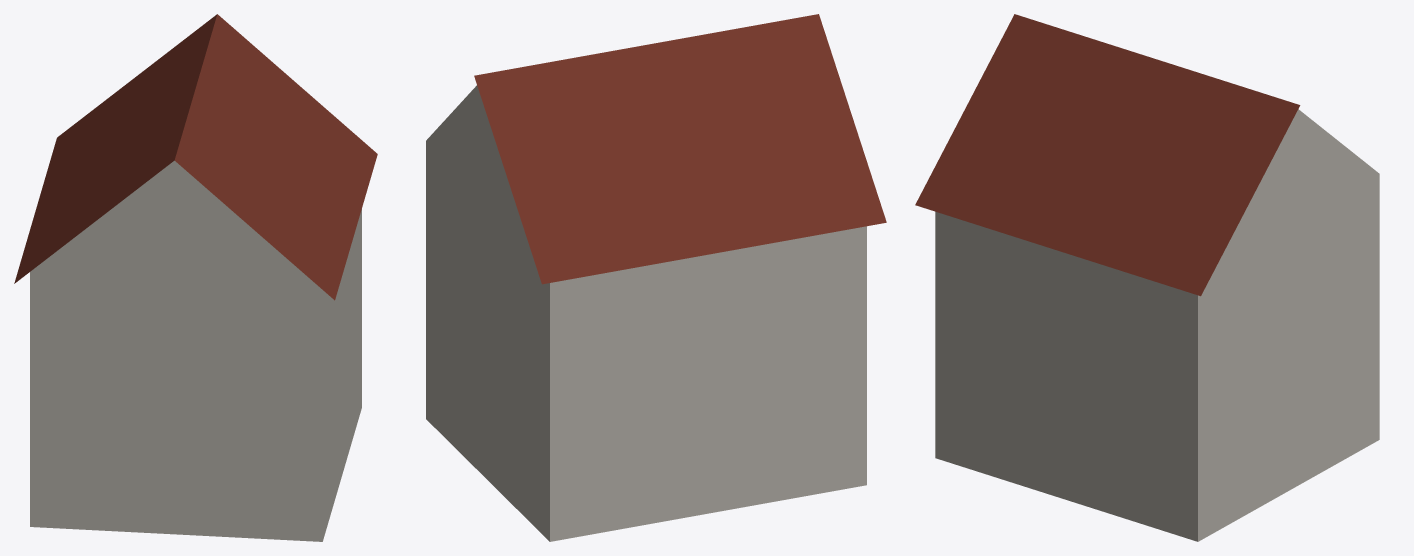
3 renders of one model, left to right at view 1: azimuth 30°, elevation 25°; view 2: azimuth 150°, elevation 25°; view 3: azimuth 270°, elevation 25°, orthographic. The views are drawn at different scales.
Visible parts, largest first — view 1: buildings; view 2: buildings; view 3: buildings.
Boxes of the visible parts, x1,y1,x2,y2 form: buildings: (14,14,377,541); buildings: (426,14,886,541); buildings: (915,14,1379,541).
Bounding box in the file's own units: 9.99 × 8.93 × 10.08.
